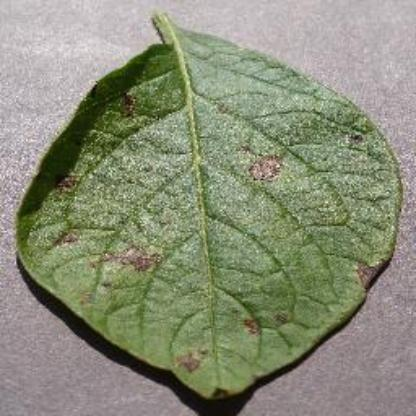Early-Blight: (14, 8, 404, 404)
